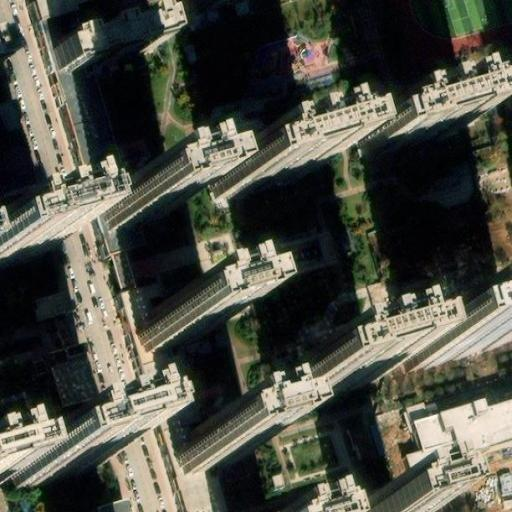building: (123, 281, 224, 512), (40, 10, 116, 177), (408, 396, 512, 471), (34, 286, 99, 404), (201, 137, 314, 200), (272, 337, 385, 400), (354, 97, 467, 160), (54, 8, 165, 69), (408, 297, 512, 360), (6, 424, 108, 488), (89, 173, 140, 291), (140, 294, 214, 348), (101, 171, 175, 225), (176, 417, 249, 471), (0, 212, 53, 263), (379, 483, 428, 512), (353, 491, 399, 512)
